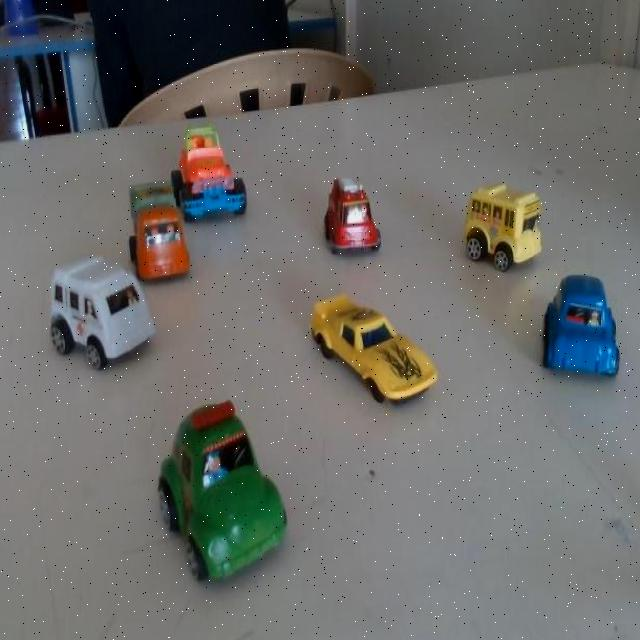car: (150, 408, 283, 568), (43, 241, 161, 387), (305, 289, 440, 413), (176, 117, 260, 222), (544, 276, 622, 379), (455, 184, 536, 277), (126, 175, 191, 288), (312, 169, 381, 269)
